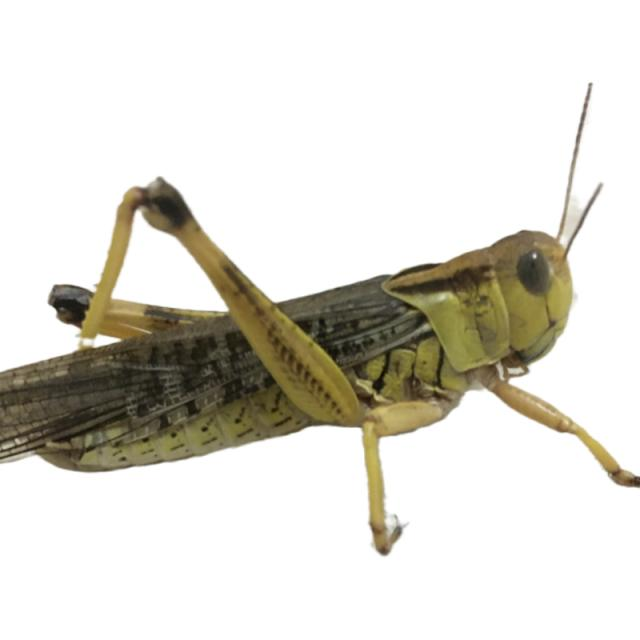ZhaMeng: (0, 79, 618, 520)
